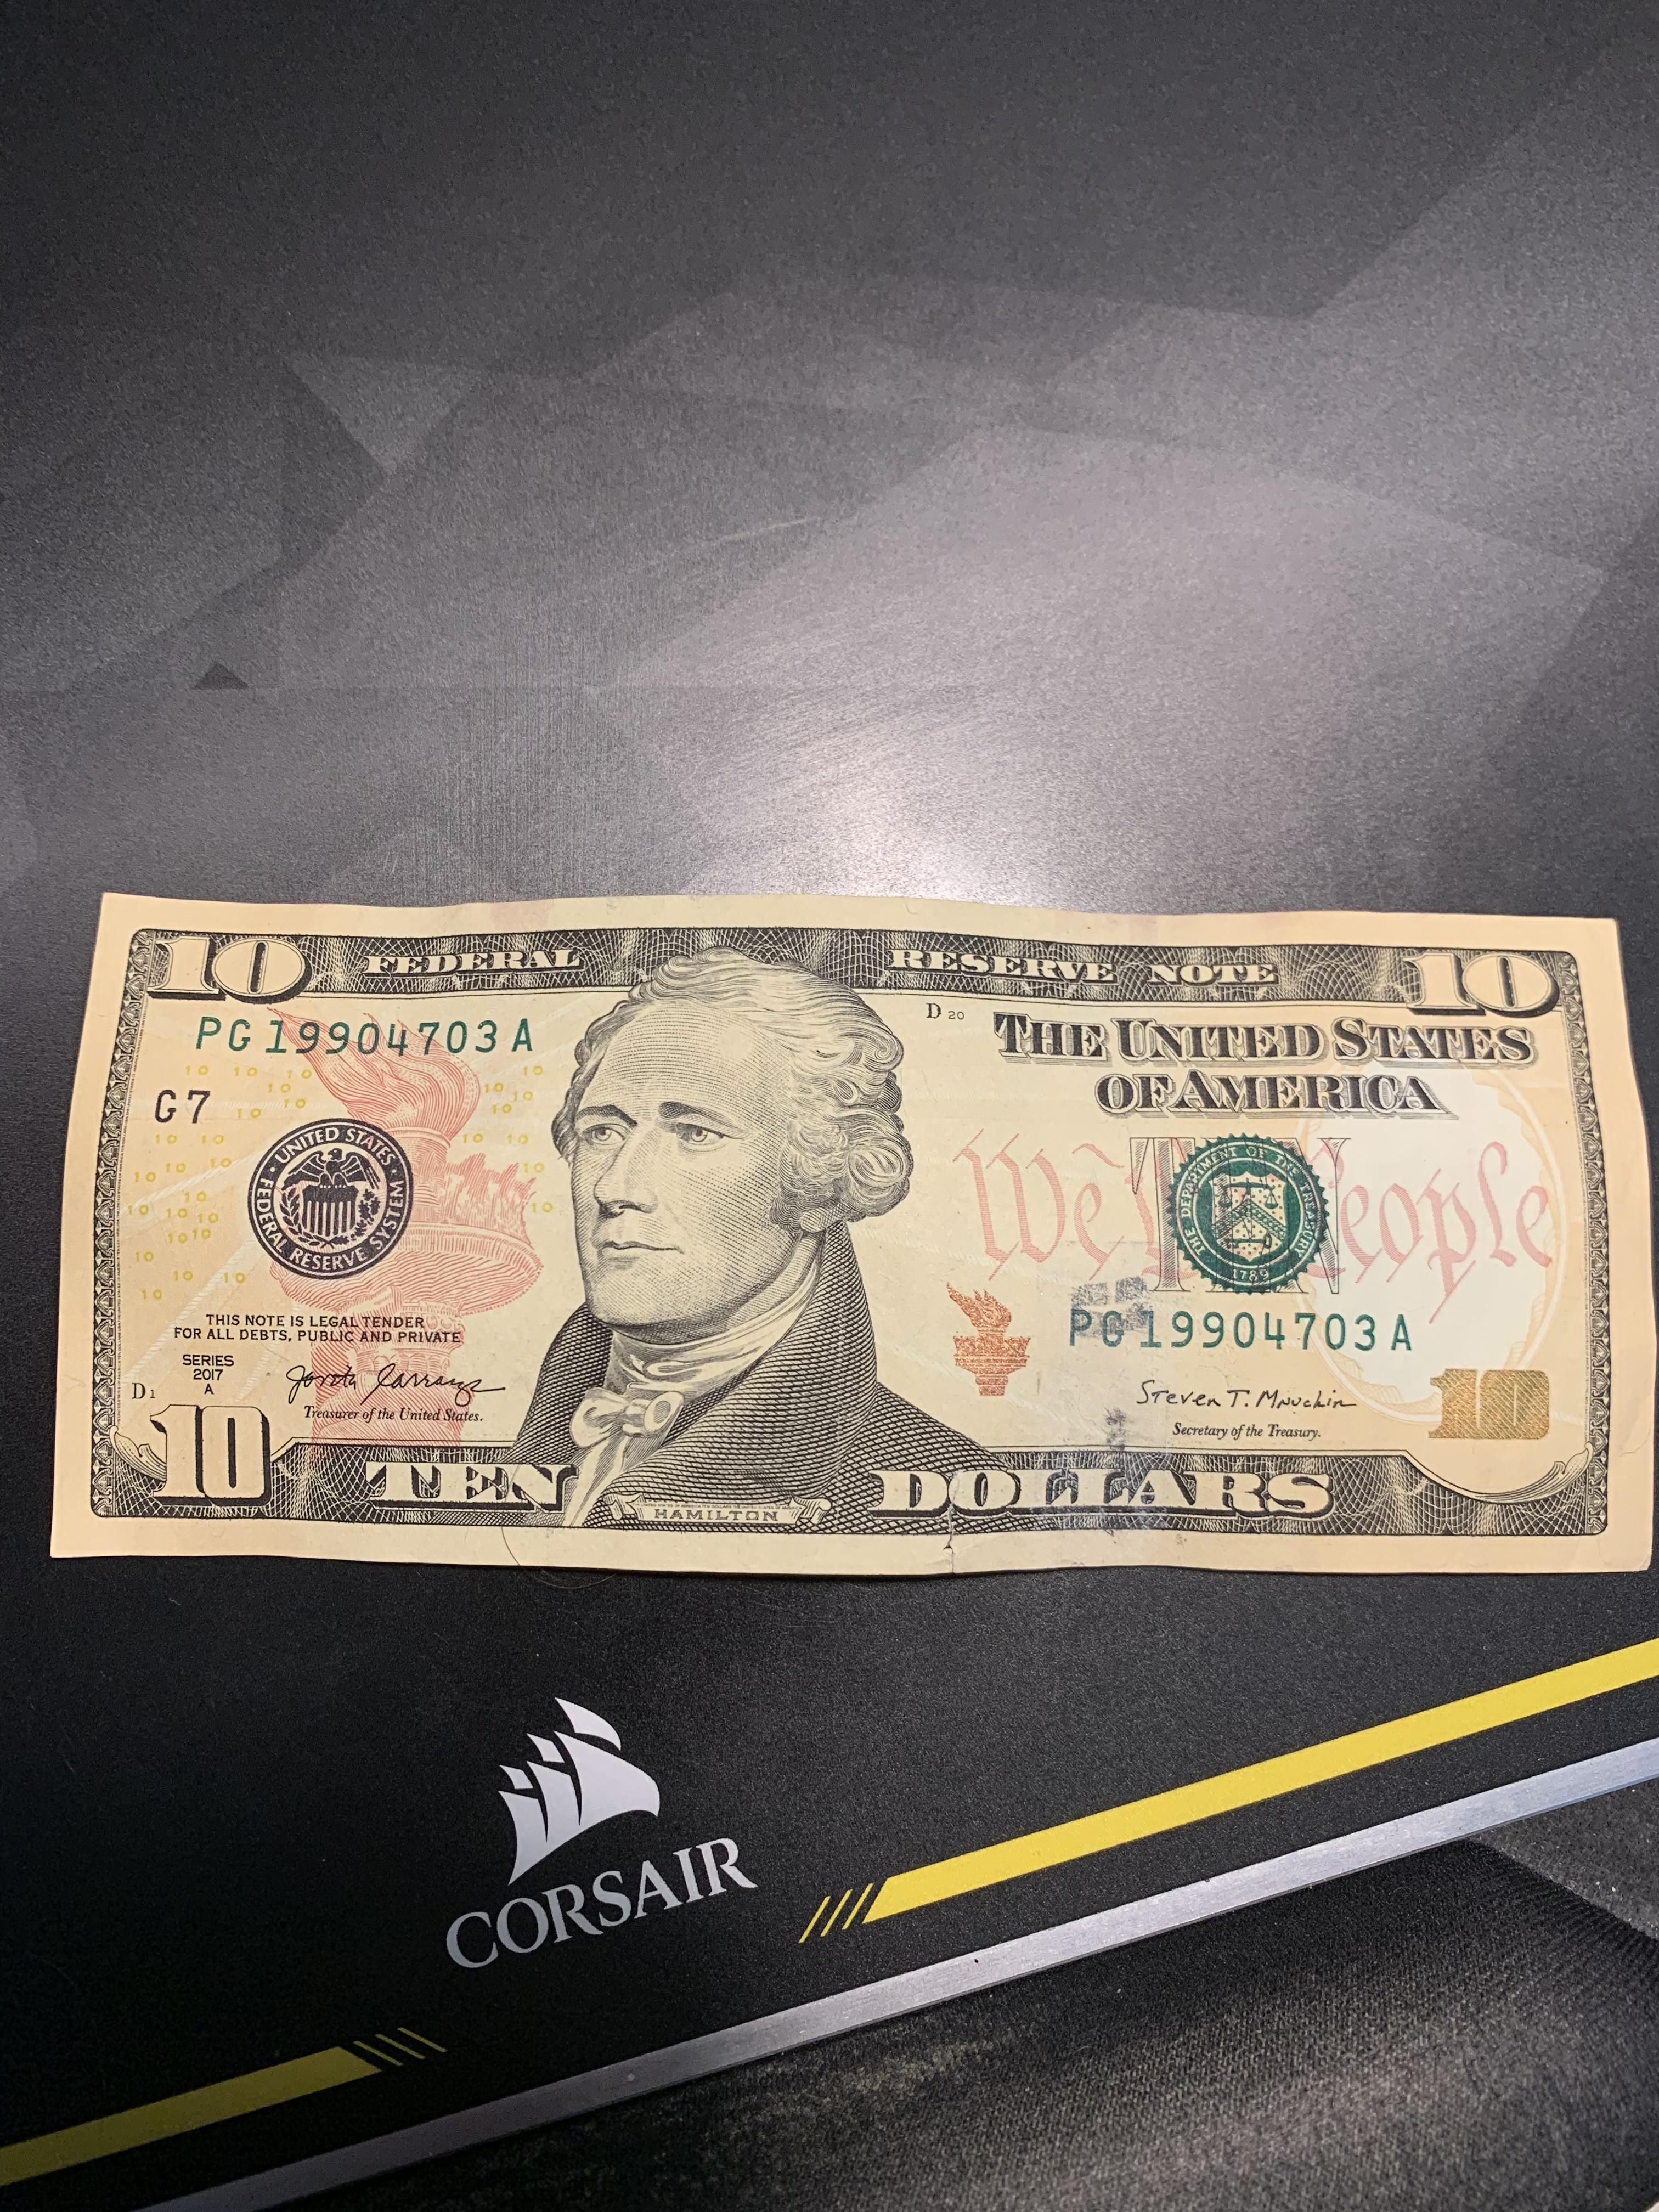TenBill: (16, 866, 1657, 1599)
